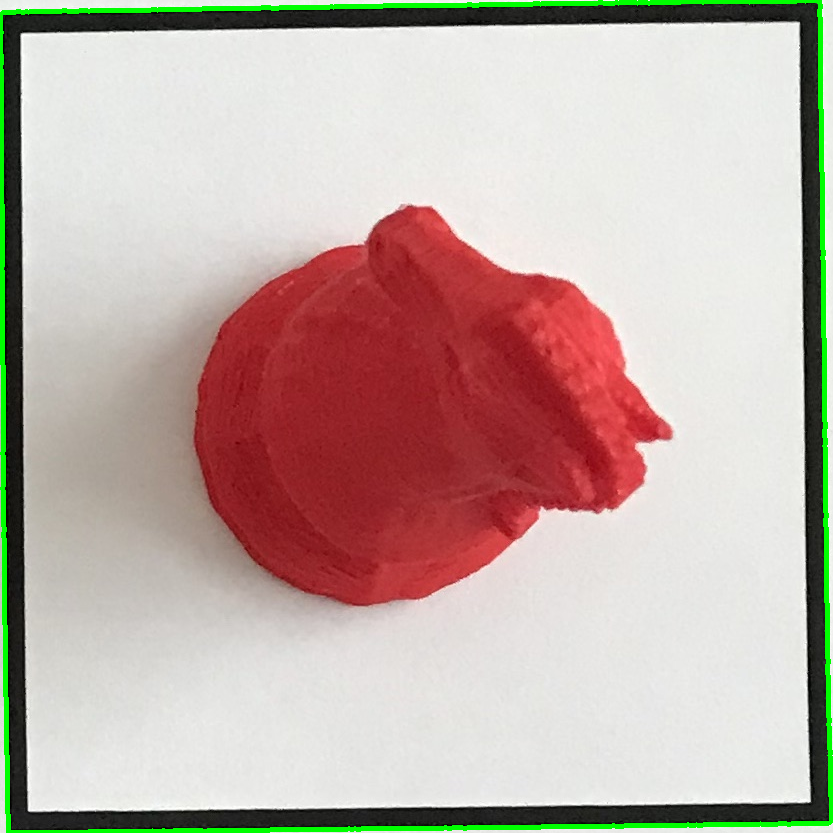Red Knight: (172, 180, 683, 635)
